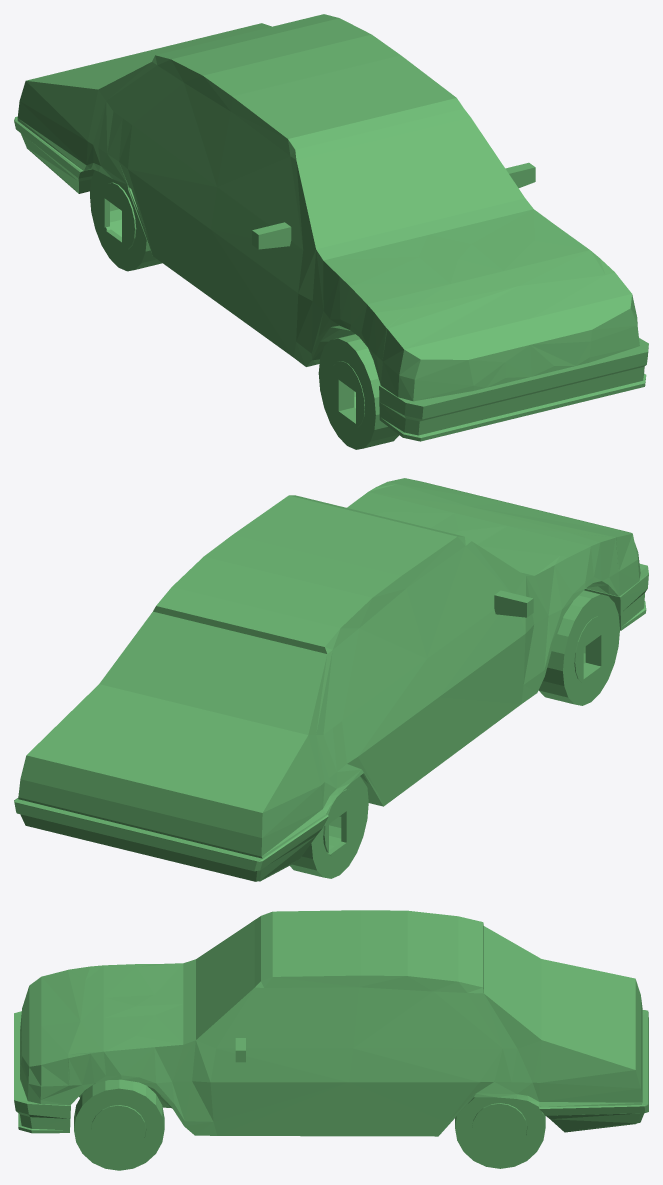
The model's file is CocheVerde.glb.
The picture shows the model from 3 angles, top to bottom: view 1: azimuth 30°, elevation 25°; view 2: azimuth 150°, elevation 25°; view 3: azimuth 270°, elevation 25°; orthographic projection. The views are drawn at different scales.
Visible parts, largest first — view 1: Mesh_Mesh_head_geo.001_lambert2SG.001; view 2: Mesh_Mesh_head_geo.001_lambert2SG.001; view 3: Mesh_Mesh_head_geo.001_lambert2SG.001.
Boxes of the visible parts, x1,y1,x2,y2 form: Mesh_Mesh_head_geo.001_lambert2SG.001: (14, 14, 648, 449); Mesh_Mesh_head_geo.001_lambert2SG.001: (14, 478, 648, 881); Mesh_Mesh_head_geo.001_lambert2SG.001: (14, 910, 648, 1170).
Size of the model in its own units: 0.0405 by 0.032 by 0.1013.
